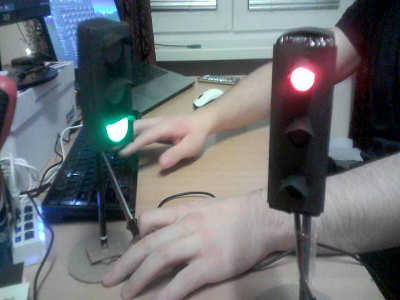trafficlight_green: (93, 26, 132, 147)
trafficlight_red: (274, 40, 327, 207)
